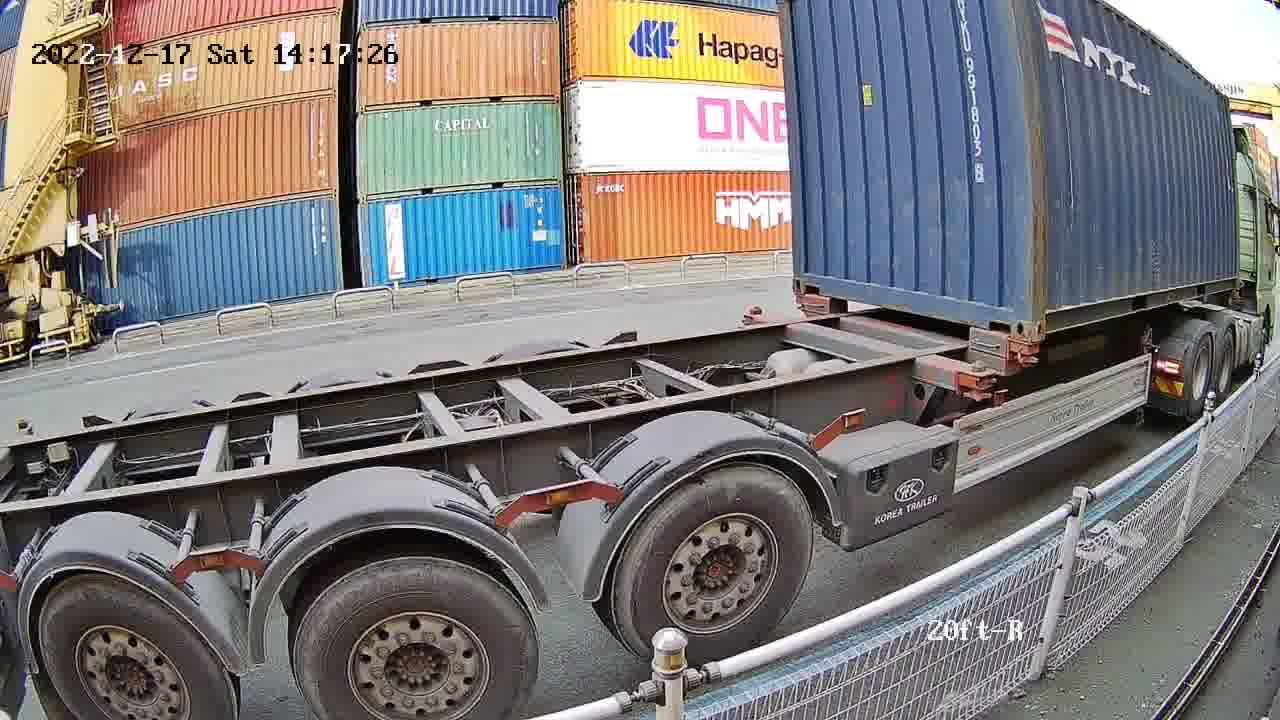Cone: (1010, 336, 1042, 368)
Hole_L: (1031, 293, 1073, 341), (791, 254, 831, 298)
Hole_R: (981, 290, 1031, 340)
Tire: (615, 467, 814, 662), (294, 562, 536, 719), (38, 577, 229, 715)
